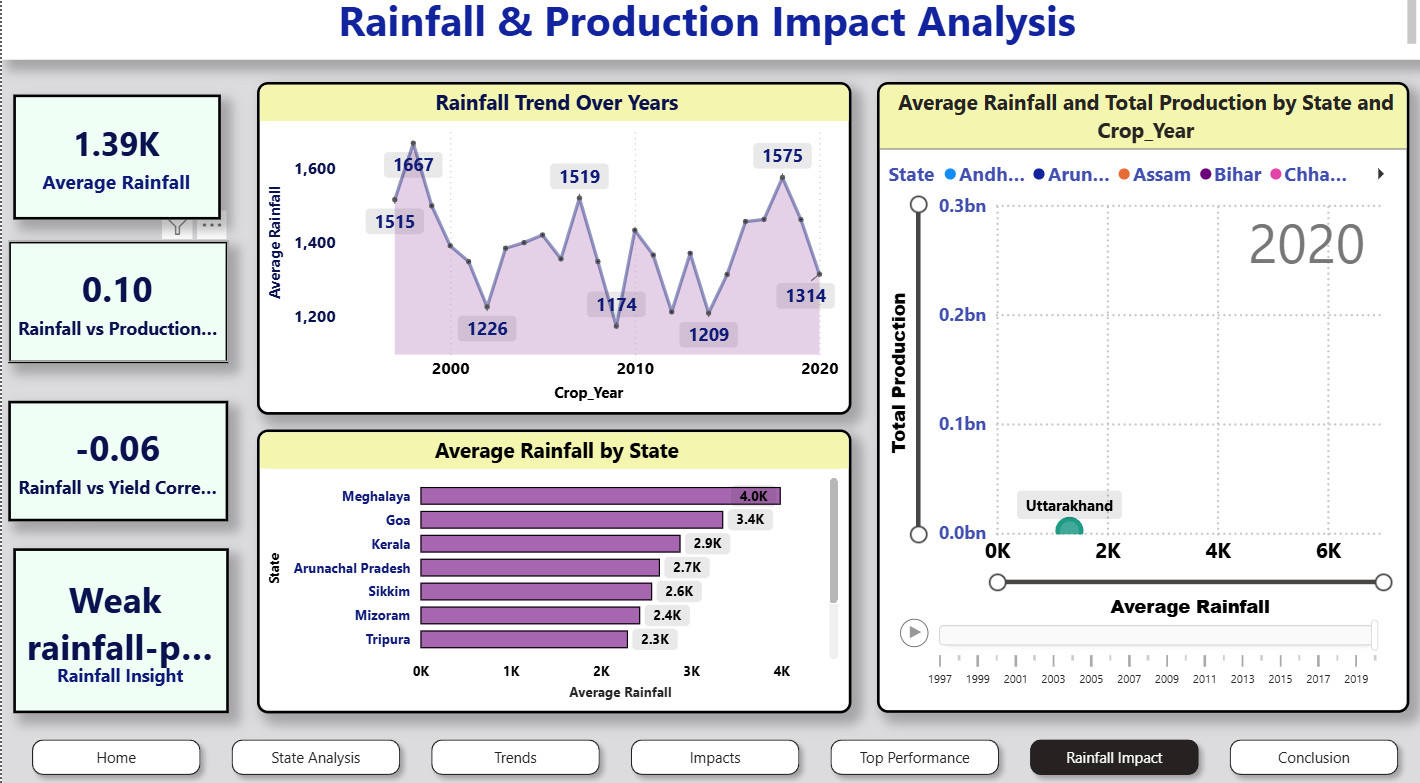

What the dashboard file says about the page in this screenshot:
{"tool":"powerbi","page":{"name":"Rainfall Impact","canvas":[1280,720],"ordinal":5},"visuals":[{"type":"textbox","box":[0,0,1280.3,65.9],"z":0},{"type":"lineChart","title":"Rainfall Trend Over Years","fields":{"Category":["crop_yield.Crop_Year"],"Y":["crop_yield.Average Rainfall"]},"box":[230,85.7,535.7,300],"z":1000},{"type":"scatterChart","fields":{"X":["crop_yield.Average Rainfall"],"Y":["crop_yield.Total Production"],"Play":["crop_yield.Crop_Year"],"Series":["crop_yield.State"]},"box":[788.6,85.7,480,568.6],"z":2000},{"type":"clusteredBarChart","fields":{"Category":["crop_yield.State"],"Y":["crop_yield.Average Rainfall"]},"box":[230,398.6,535.7,255.7],"z":3000},{"type":"card","fields":{"Values":["crop_yield.Rainfall vs Production Correlation"]},"box":[5.7,228.6,198.6,110],"z":4000},{"type":"card","fields":{"Values":["crop_yield.Rainfall vs Yield Correlation"]},"box":[5.7,372.9,198.6,108.6],"z":5000},{"type":"card","fields":{"Values":["crop_yield.Average Rainfall"]},"box":[10,97.1,187.1,112.9],"z":6000},{"type":"card","fields":{"Values":["crop_yield.Rainfall Insight"]},"box":[10,505.7,194.3,148.6],"z":7000},{"type":"pageNavigator","box":[18.6,670,1250,50],"z":7001}]}

Visuals, with their boxes in screenshot pixels (x1, y1, x2, y2), scaled from the page's 1280x720 canvas onto the 1420x783 screenshot:
textbox: (0,0,1419,72)
"Rainfall Trend Over Years" lineChart: (255,93,849,419)
scatterChart - crop_yield.Average Rainfall x crop_yield.Total Production: (875,93,1407,712)
clusteredBarChart - crop_yield.State x crop_yield.Average Rainfall: (255,433,849,712)
card - crop_yield.Rainfall vs Production Correlation: (6,249,227,368)
card - crop_yield.Rainfall vs Yield Correlation: (6,406,227,524)
card - crop_yield.Average Rainfall: (11,106,219,228)
card - crop_yield.Rainfall Insight: (11,550,227,712)
pageNavigator: (21,729,1407,782)
